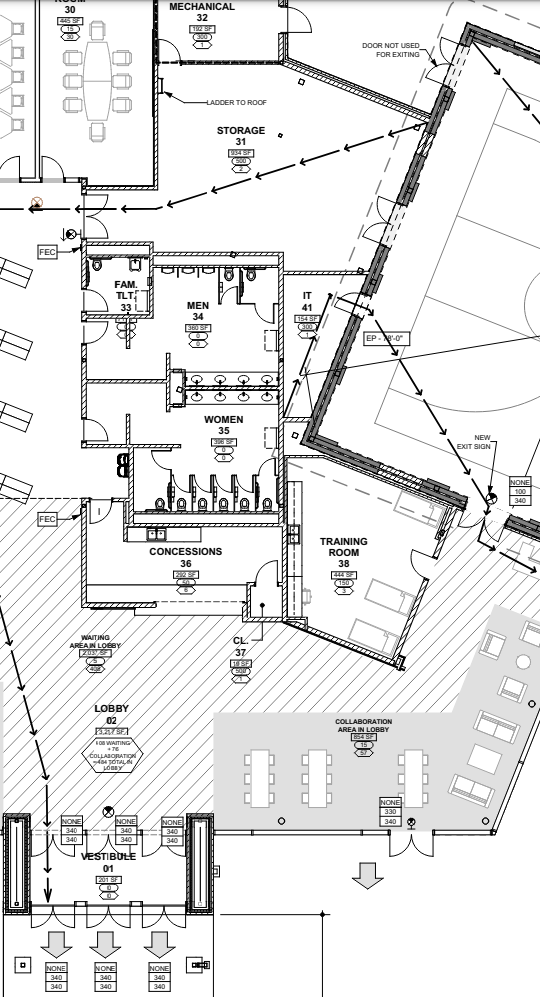door: (330, 291, 378, 323), (281, 5, 319, 40), (406, 546, 441, 581), (85, 491, 117, 529), (39, 153, 69, 190), (75, 286, 113, 315), (154, 35, 186, 69), (253, 554, 280, 588), (78, 321, 113, 346)
double door: (458, 492, 511, 550), (356, 197, 409, 248), (141, 811, 190, 864), (81, 822, 140, 865), (421, 33, 463, 89), (28, 894, 81, 935), (83, 896, 135, 935), (386, 826, 439, 862), (140, 898, 190, 936), (30, 825, 79, 863), (79, 193, 115, 244)
window: (376, 454, 429, 504)
